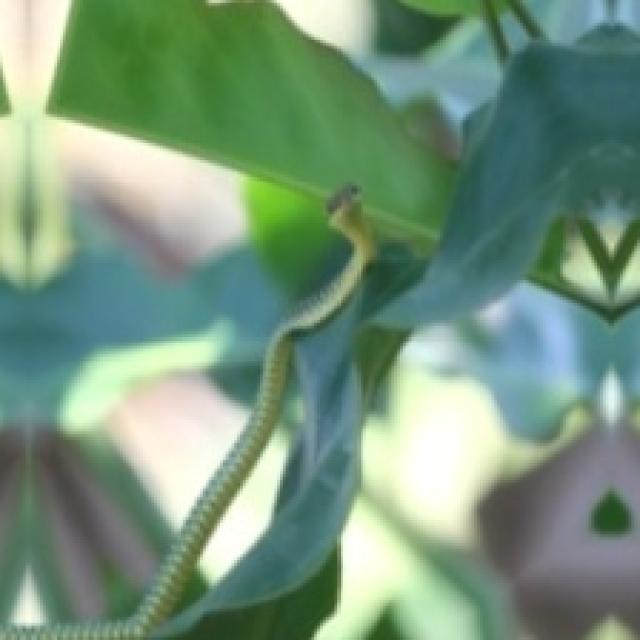paradise tree snake: (0, 186, 371, 637)
